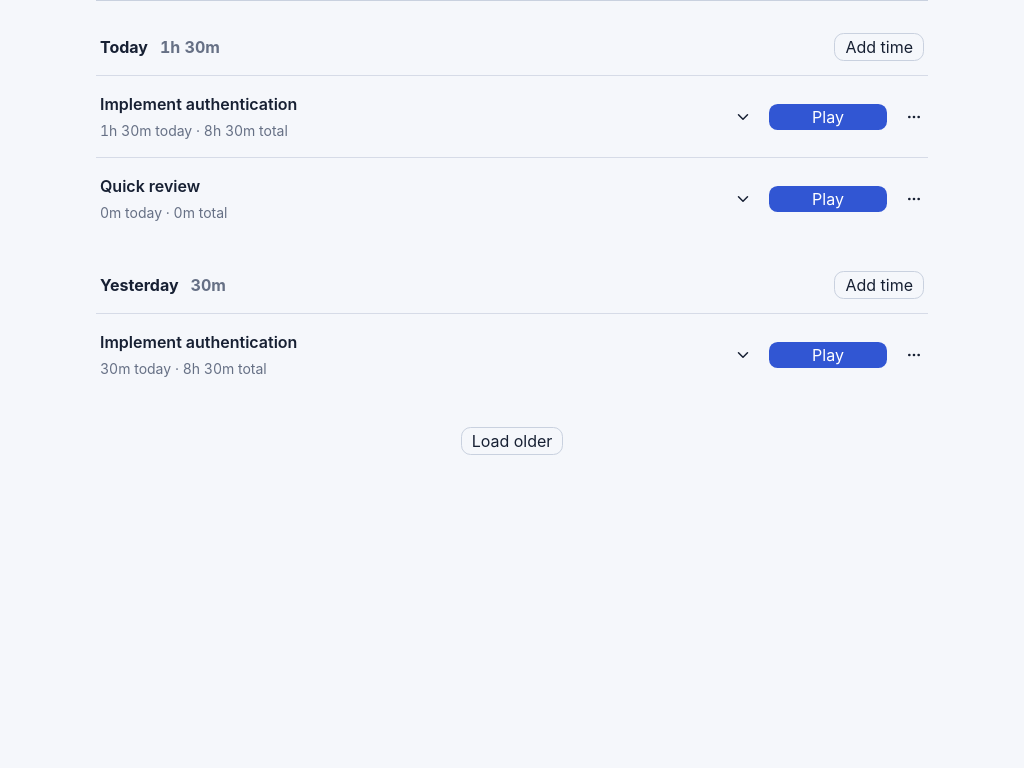
Test: DailyHistory › saves overlapping edit values, refreshes authoritatively, closes, and restores focus
Click the button "Implement authentication".
click(199, 104)  # box [96,76,756,157]
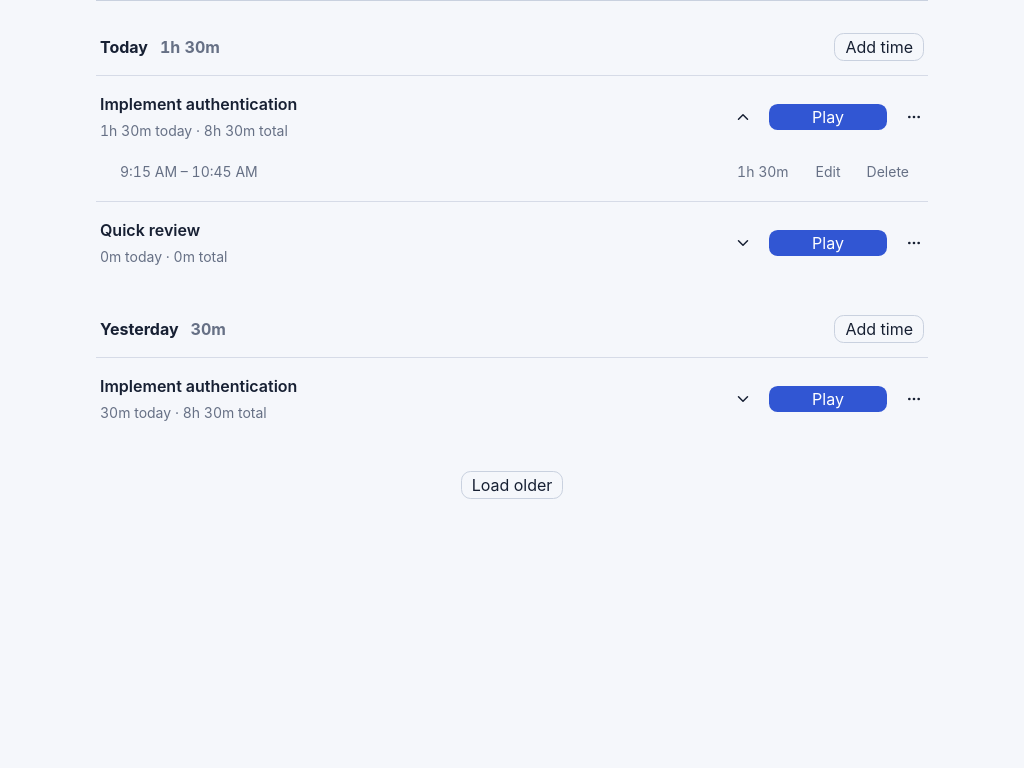
Click the button "Edit".
click(828, 171)  # box [805,157,852,185]
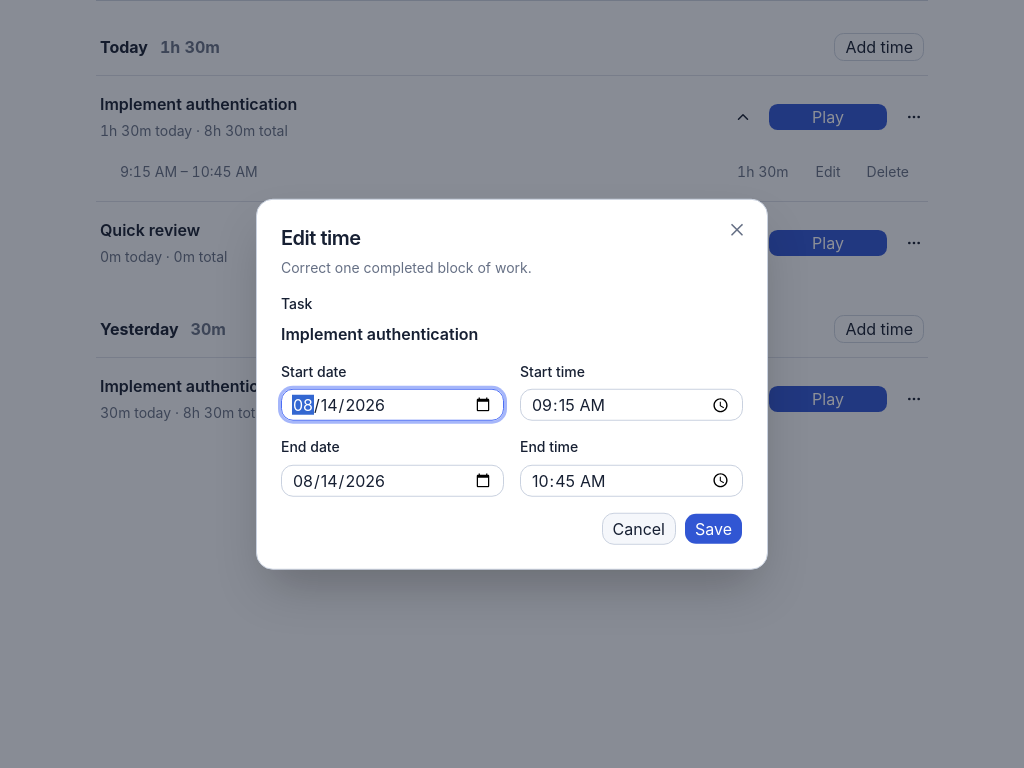
Replace the text in the time field labelled "Start time" with "09:30" at (632, 405), box [520,389,743,421]
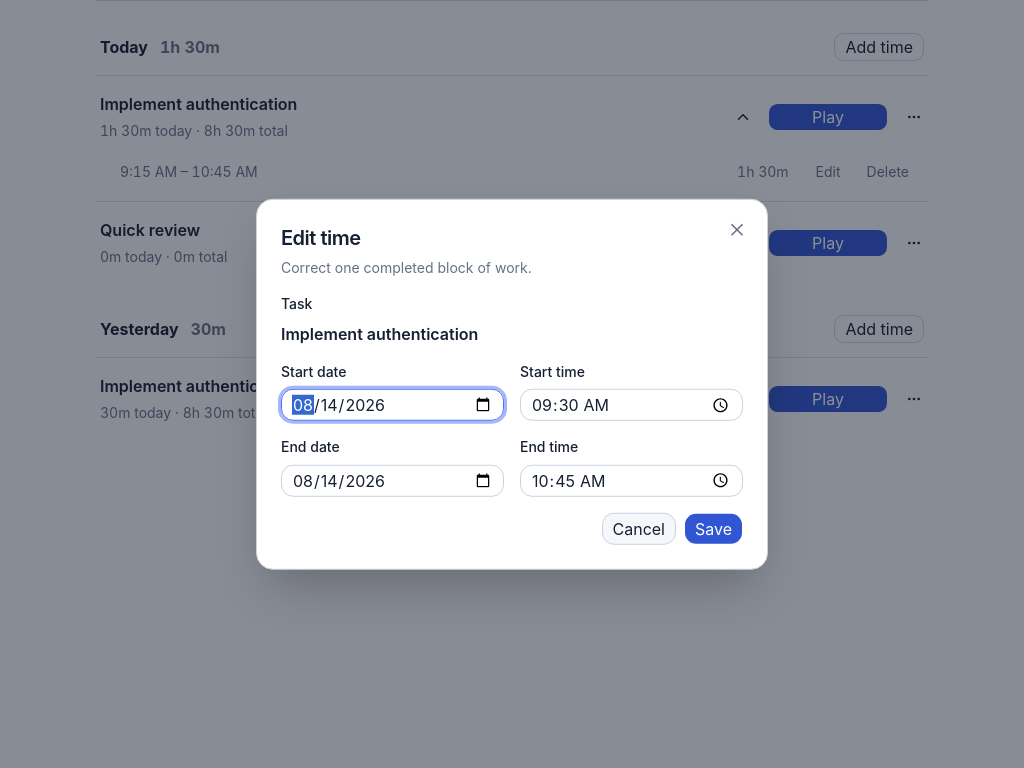
Replace the text in the time field labelled "End time" with "11:30" at (632, 480), box [520,464,743,496]
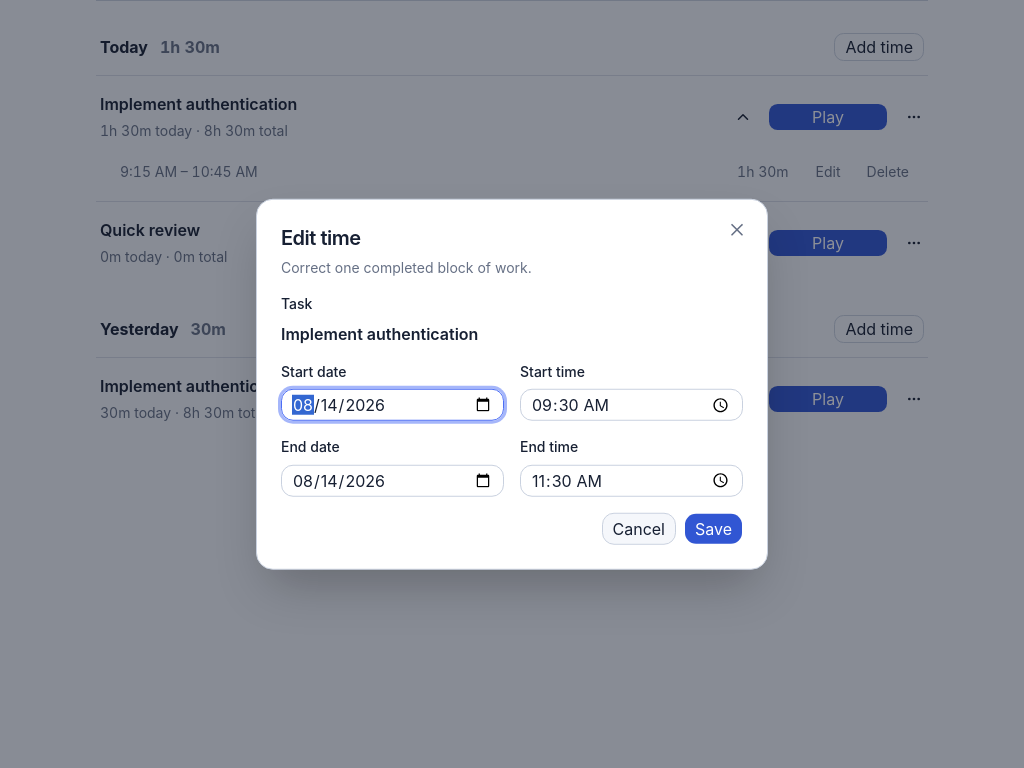
Click the button "Save".
click(714, 528)  # box [684,512,743,544]
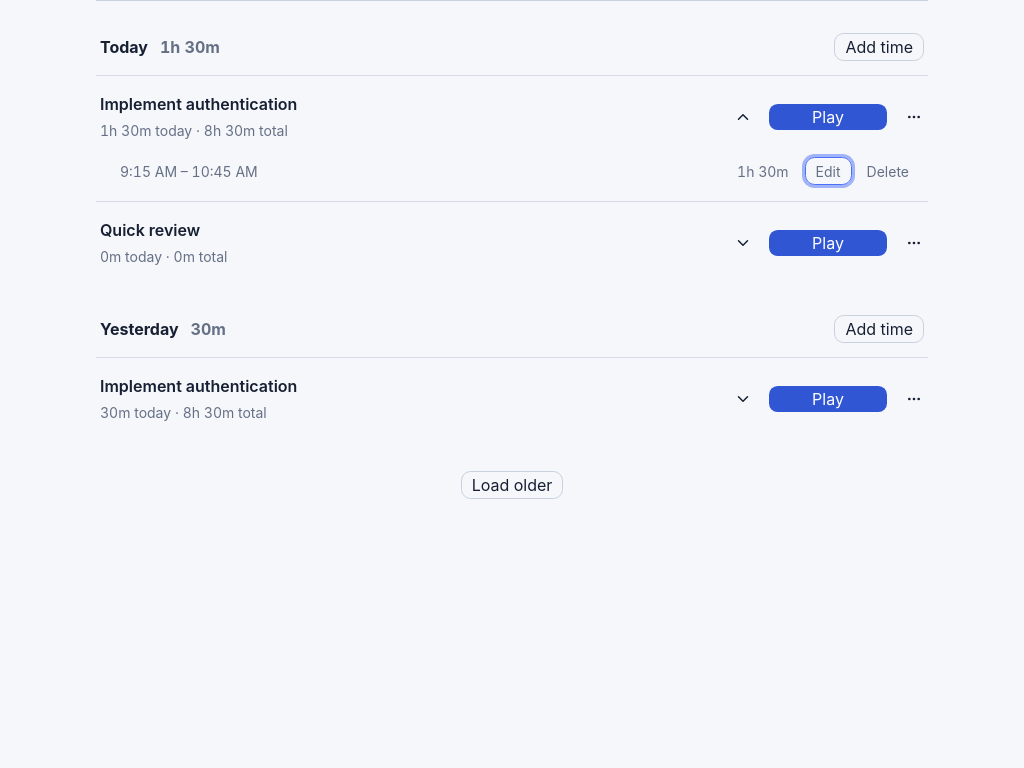
Now the dialog is gone
